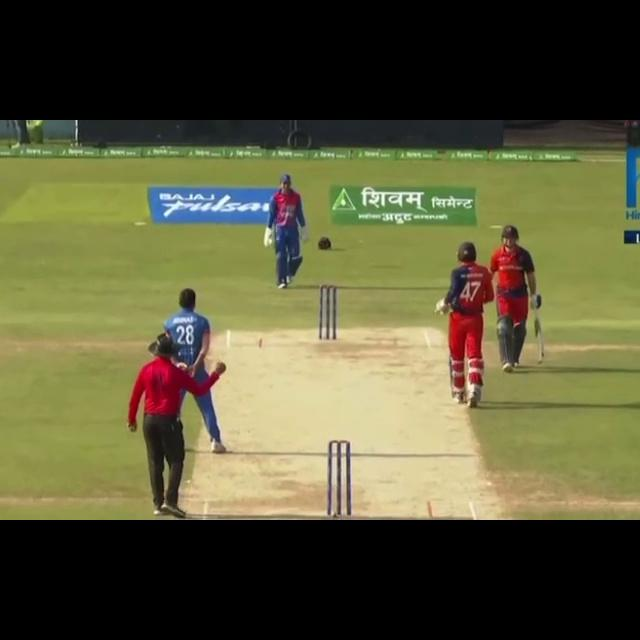umpire: (116, 334, 227, 518)
